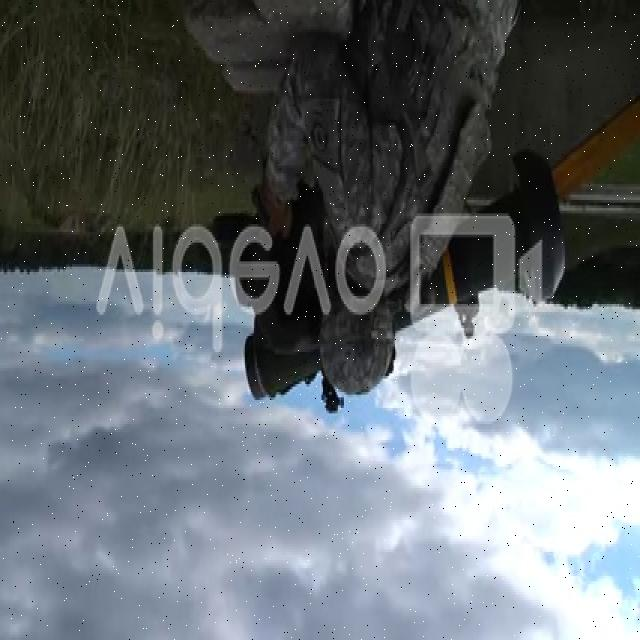bazooka: (246, 143, 577, 411)
